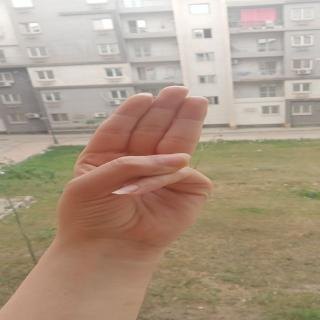THA: (58, 84, 234, 243)
